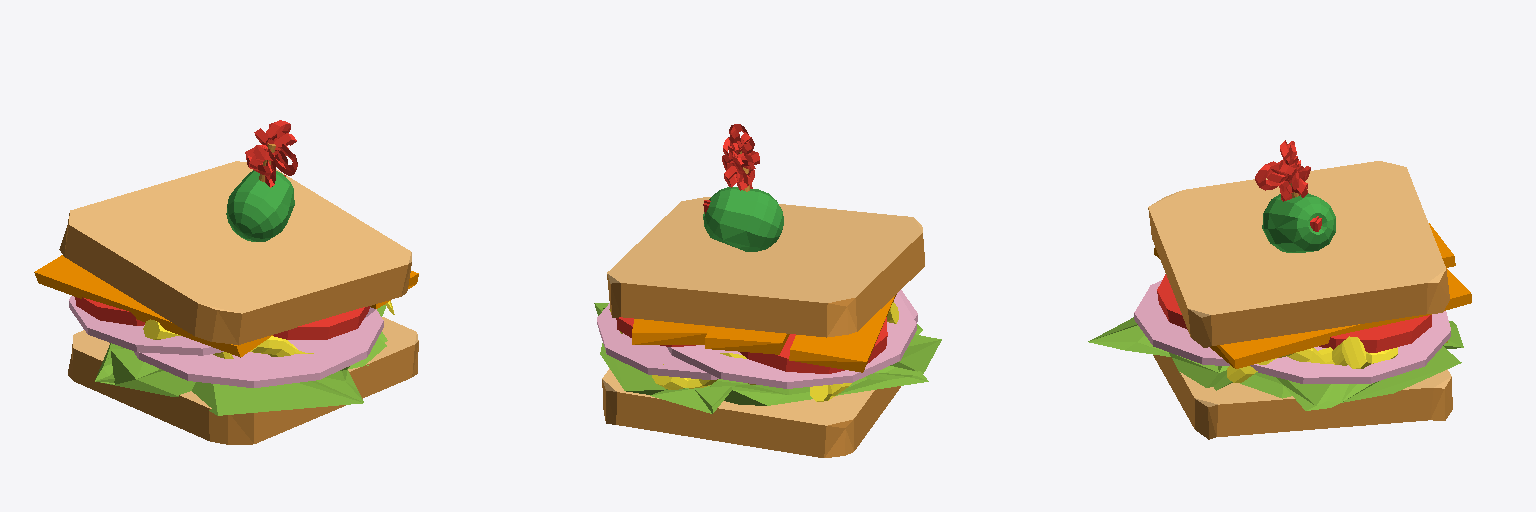
Rendered from model-triangulated.obj.
3 renders of one model, left to right at view 1: azimuth 30°, elevation 25°; view 2: azimuth 150°, elevation 25°; view 3: azimuth 270°, elevation 25°, orthographic.
Visible parts, largest first — view 1: group[number redacted], group[number redacted], group[number redacted], group[number redacted], group[number redacted], group[number redacted], group[number redacted], group[number redacted], group[number redacted], group[number redacted], group[number redacted]; view 2: group[number redacted], group[number redacted], group[number redacted], group[number redacted], group[number redacted], group[number redacted], group[number redacted], group[number redacted], group[number redacted], group[number redacted], group[number redacted], group[number redacted]; view 3: group[number redacted], group[number redacted], group[number redacted], group[number redacted], group[number redacted], group[number redacted], group[number redacted], group[number redacted], group[number redacted], group[number redacted], group[number redacted].
Boxes of the visible parts, x1=… form: group[number redacted]: x1=59, y1=161, x2=411, y2=344; group[number redacted]: x1=68, y1=317, x2=418, y2=444; group[number redacted]: x1=95, y1=305, x2=387, y2=415; group[number redacted]: x1=134, y1=309, x2=383, y2=387; group[number redacted]: x1=34, y1=255, x2=272, y2=357; group[number redacted]: x1=226, y1=170, x2=294, y2=241; group[number redacted]: x1=69, y1=296, x2=223, y2=355; group[number redacted]: x1=273, y1=306, x2=369, y2=339; group[number redacted]: x1=245, y1=120, x2=296, y2=172; group[number redacted]: x1=75, y1=297, x2=144, y2=325; group[number redacted]: x1=250, y1=336, x2=313, y2=356; group[number redacted]: x1=607, y1=197, x2=924, y2=337; group[number redacted]: x1=602, y1=368, x2=900, y2=457; group[number redacted]: x1=594, y1=303, x2=941, y2=413; group[number redacted]: x1=667, y1=293, x2=916, y2=388; group[number redacted]: x1=703, y1=187, x2=783, y2=251; group[number redacted]: x1=789, y1=294, x2=896, y2=372; group[number redacted]: x1=597, y1=303, x2=718, y2=379; group[number redacted]: x1=705, y1=326, x2=789, y2=354; group[number redacted]: x1=632, y1=319, x2=710, y2=344; group[number redacted]: x1=722, y1=124, x2=759, y2=190; group[number redacted]: x1=740, y1=317, x2=887, y2=373; group[number redacted]: x1=652, y1=353, x2=755, y2=389; group[number redacted]: x1=1148, y1=161, x2=1449, y2=347; group[number redacted]: x1=1153, y1=355, x2=1452, y2=439; group[number redacted]: x1=1088, y1=317, x2=1463, y2=410; group[number redacted]: x1=1250, y1=311, x2=1450, y2=383; group[number redacted]: x1=1262, y1=193, x2=1335, y2=252; group[number redacted]: x1=1210, y1=268, x2=1471, y2=368; group[number redacted]: x1=1134, y1=280, x2=1229, y2=365; group[number redacted]: x1=1227, y1=336, x2=1397, y2=382; group[number redacted]: x1=1319, y1=315, x2=1431, y2=352; group[number redacted]: x1=1279, y1=140, x2=1310, y2=197; group[number redacted]: x1=1157, y1=274, x2=1187, y2=329.
Size of the model in its own units: 0.6628 by 0.5017 by 0.6853.